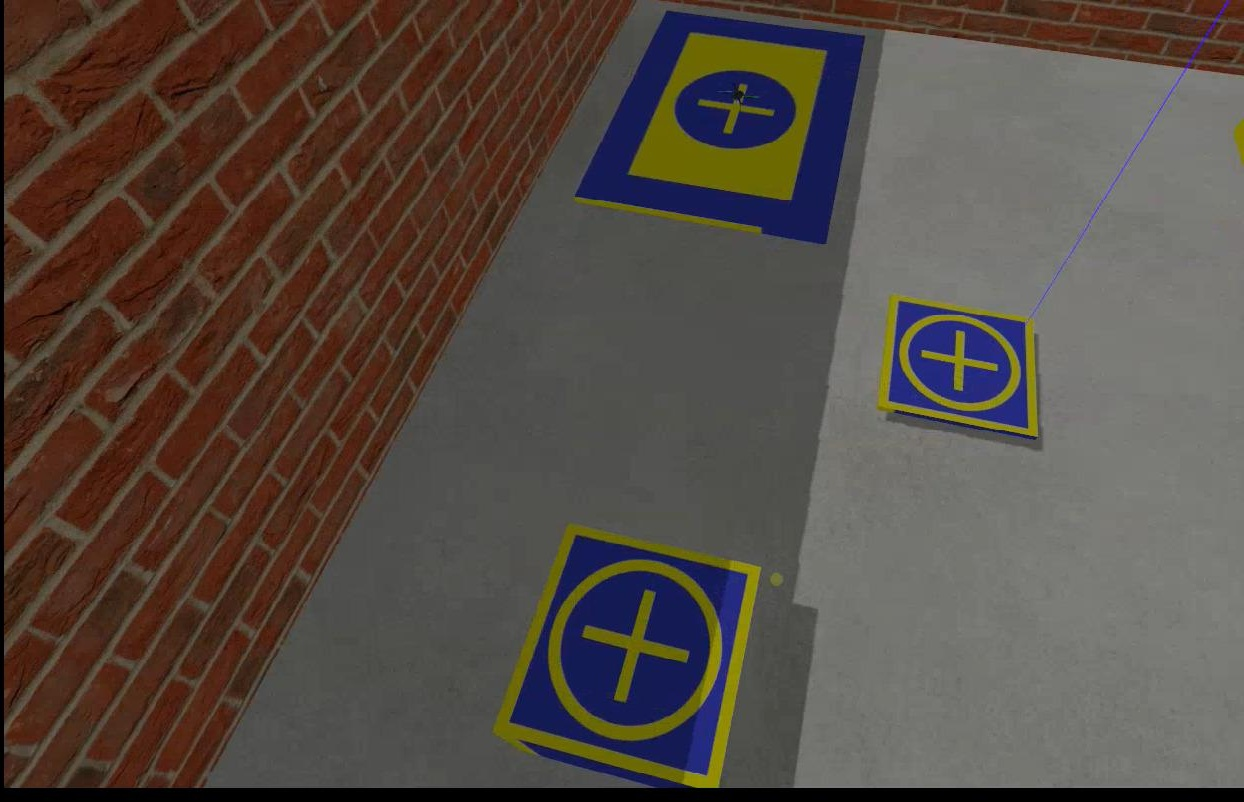large_base: (576, 17, 866, 247)
small_base: (490, 527, 760, 788), (878, 297, 1050, 440)
